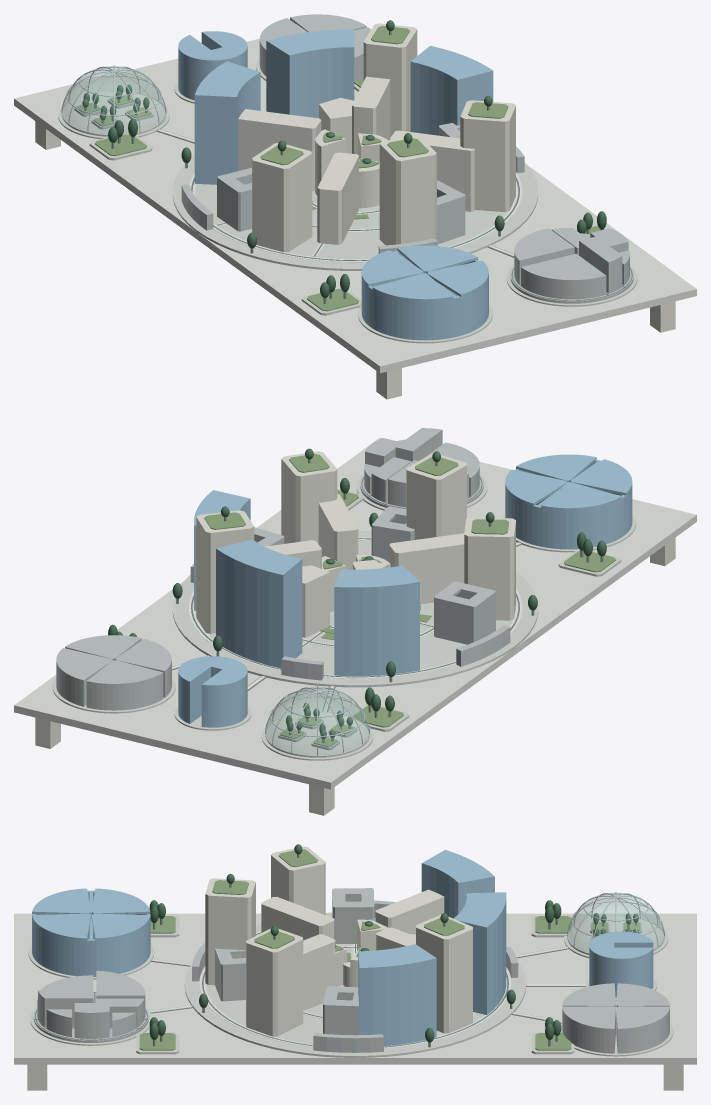
Rendered from auquara.glb.
The picture shows the model from 3 angles, top to bottom: view 1: azimuth 30°, elevation 25°; view 2: azimuth 150°, elevation 25°; view 3: azimuth 270°, elevation 25°; orthographic projection. The views are drawn at different scales.
Visible parts, largest first — view 1: board, city-disc, blue-tower-2, open-satellite-ring, brown-tower-3, brown-tower-2, greenhouse-glass, blue-tower-1, brown-tower-4, blue-tower-3, white-spoke-1, white-spoke-3 (+35 smaller); view 2: board, blue-tower-2, city-disc, blue-tower-1, greenhouse-glass, open-satellite-ring, satellite-u, brown-tower-3, white-spoke-3, satellite-quarter-2, brown-tower-2, brown-tower-4 (+35 smaller); view 3: board, city-disc, blue-tower-3, brown-tower-4, open-satellite-ring, brown-tower-1, satellite-u, greenhouse-glass, blue-tower-2, brown-tower-3, satellite-quarter-1, satellite-quarter-4 (+50 smaller).
Part boxes in pixels (x1,y1,x2,y2): board: (14,38,696,373); city-disc: (172,155,538,270); blue-tower-2: (266,42,354,118); open-satellite-ring: (361,250,488,339); brown-tower-3: (379,147,436,245); brown-tower-2: (252,156,312,249); greenhouse-glass: (62,66,165,133); blue-tower-1: (194,74,260,184); brown-tower-4: (460,109,515,209); blue-tower-3: (410,63,493,135); white-spoke-1: (238,109,321,191); white-spoke-3: (317,152,358,244); board: (14,437,696,789); blue-tower-2: (216,550,302,668); city-disc: (172,530,538,687); blue-tower-1: (334,583,419,675); greenhouse-glass: (266,687,368,754); open-satellite-ring: (505,460,632,548); satellite-u: (178,656,247,727); brown-tower-3: (406,468,466,539); white-spoke-3: (389,533,464,604); satellite-quarter-2: (86,660,163,710); brown-tower-2: (464,525,515,618); brown-tower-4: (281,461,337,543); board: (14,913,696,1064); city-disc: (184,912,526,1057); blue-tower-3: (358,954,436,1046); brown-tower-4: (246,942,303,1034); open-satellite-ring: (32,890,150,976); brown-tower-1: (416,930,472,1031); satellite-u: (589,931,653,997); greenhouse-glass: (568,893,663,952); blue-tower-2: (466,901,506,1014); brown-tower-3: (205,885,255,982); satellite-quarter-1: (616,1006,669,1053); satellite-quarter-4: (562,1006,615,1053).
Size of the model in its own units: 0.19 by 0.0917 by 0.38.
